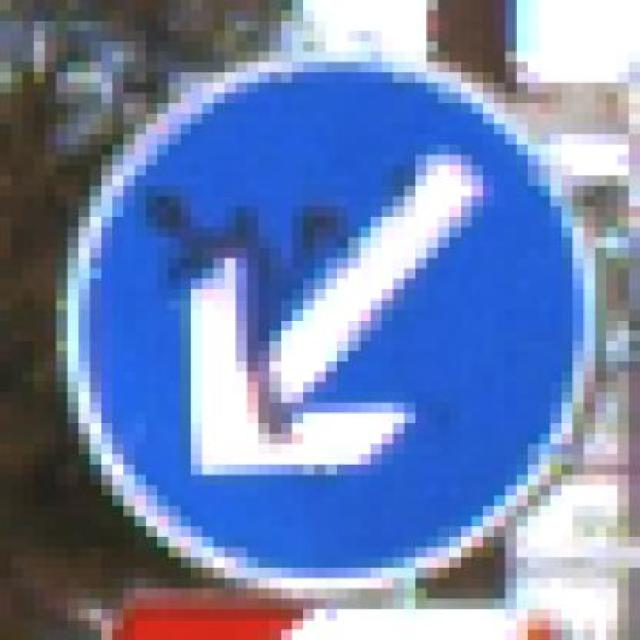Keep-Left: (45, 31, 606, 609)
